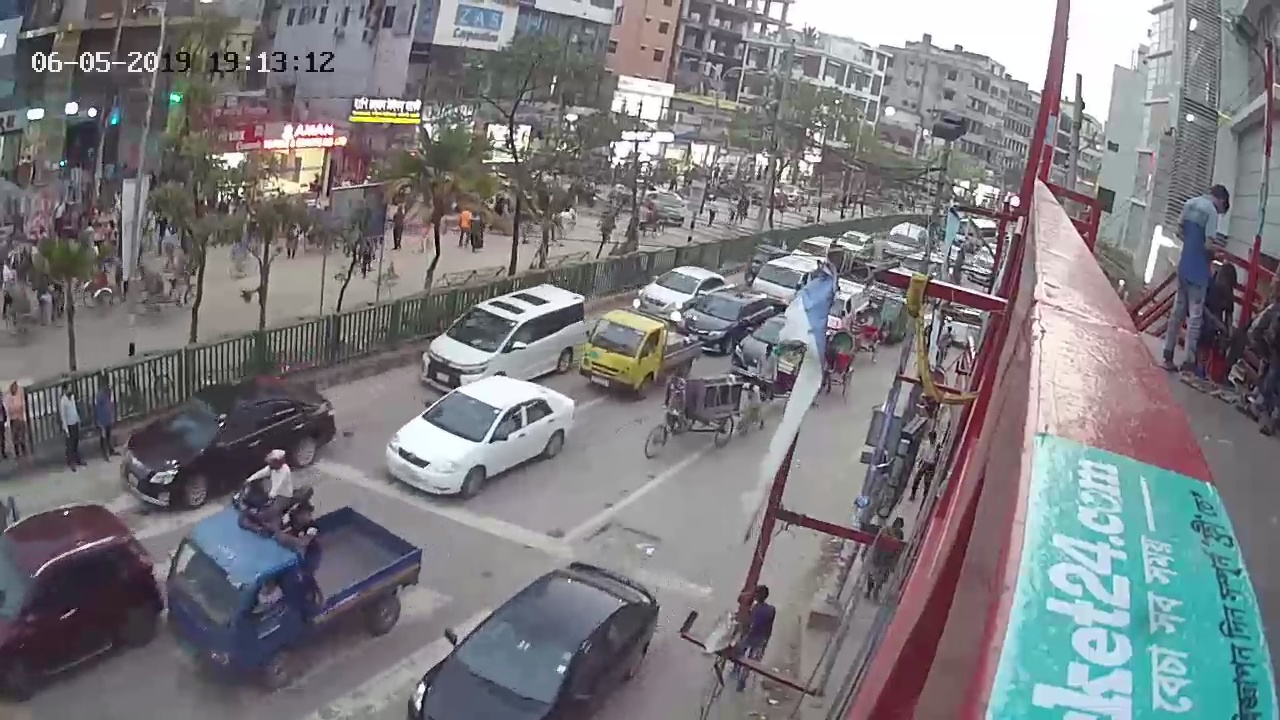fast_in: (157, 500, 423, 692), (396, 559, 692, 720), (1, 498, 163, 704), (117, 376, 339, 516), (381, 372, 580, 504), (413, 276, 593, 403), (576, 309, 707, 393), (224, 449, 319, 536), (675, 288, 777, 358), (635, 260, 739, 319), (749, 252, 825, 308), (871, 292, 912, 344)
slow_in: (642, 356, 748, 461), (801, 326, 854, 408), (754, 338, 807, 418), (844, 297, 882, 363)
slow_out: (128, 247, 215, 321), (81, 251, 137, 317), (632, 197, 674, 235)
